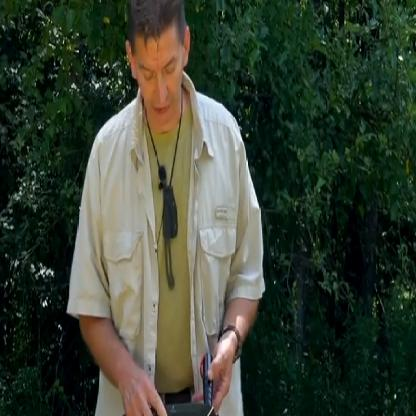knife: (113, 394, 215, 415)
